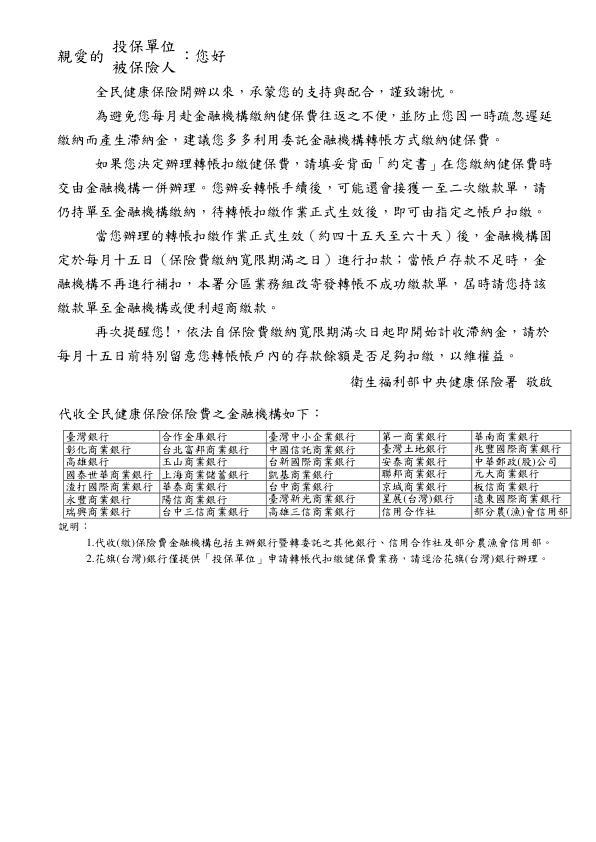table: (56, 423, 575, 522)
text: (53, 226, 559, 317), (53, 154, 554, 222), (51, 323, 555, 367), (54, 109, 557, 150), (82, 535, 554, 571), (51, 33, 233, 80), (94, 80, 455, 102), (57, 400, 322, 421), (348, 370, 555, 395), (55, 521, 88, 531)
